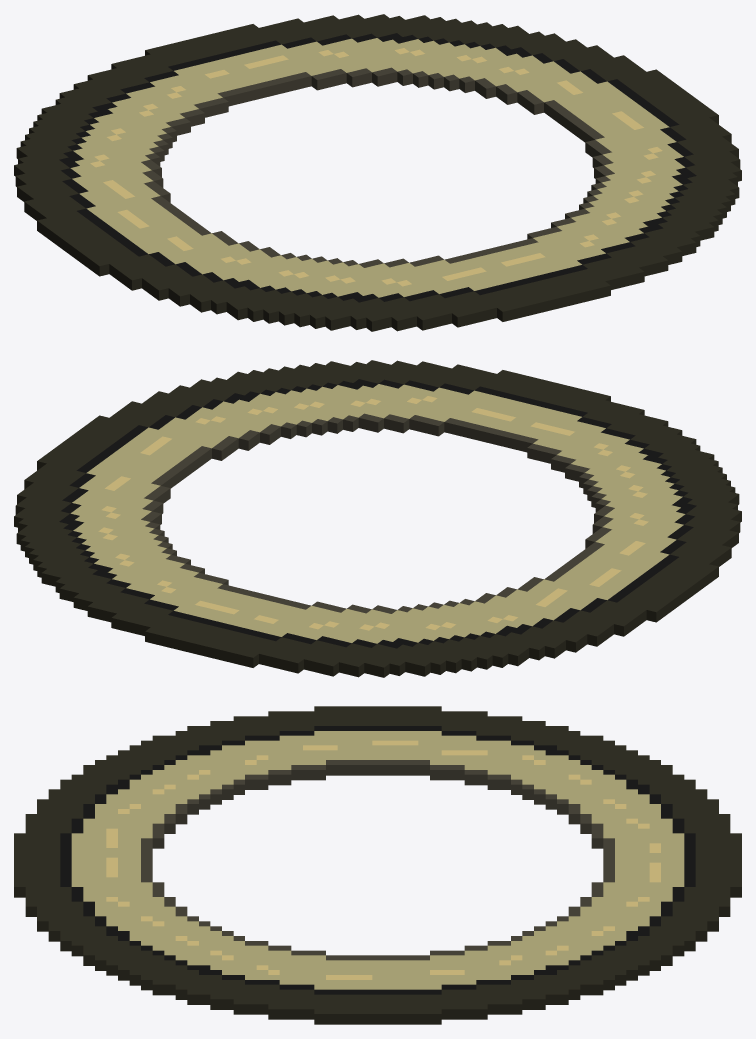
Rendered from saturn-1.obj.
3 views of the same model, one above another, from view 1: azimuth 30°, elevation 25°; view 2: azimuth 150°, elevation 25°; view 3: azimuth 270°, elevation 25° (orthographic).
Parts seen in each view (by area): view 1: saturn-1; view 2: saturn-1; view 3: saturn-1.
Boxes of the visible parts, <box> form: saturn-1: <box>14,14,741,331</box>; saturn-1: <box>14,360,741,677</box>; saturn-1: <box>14,706,741,1024</box>.
Size of the model in its own units: 63 by 1 by 63.
Materials: 1 (1 with a texture image).
